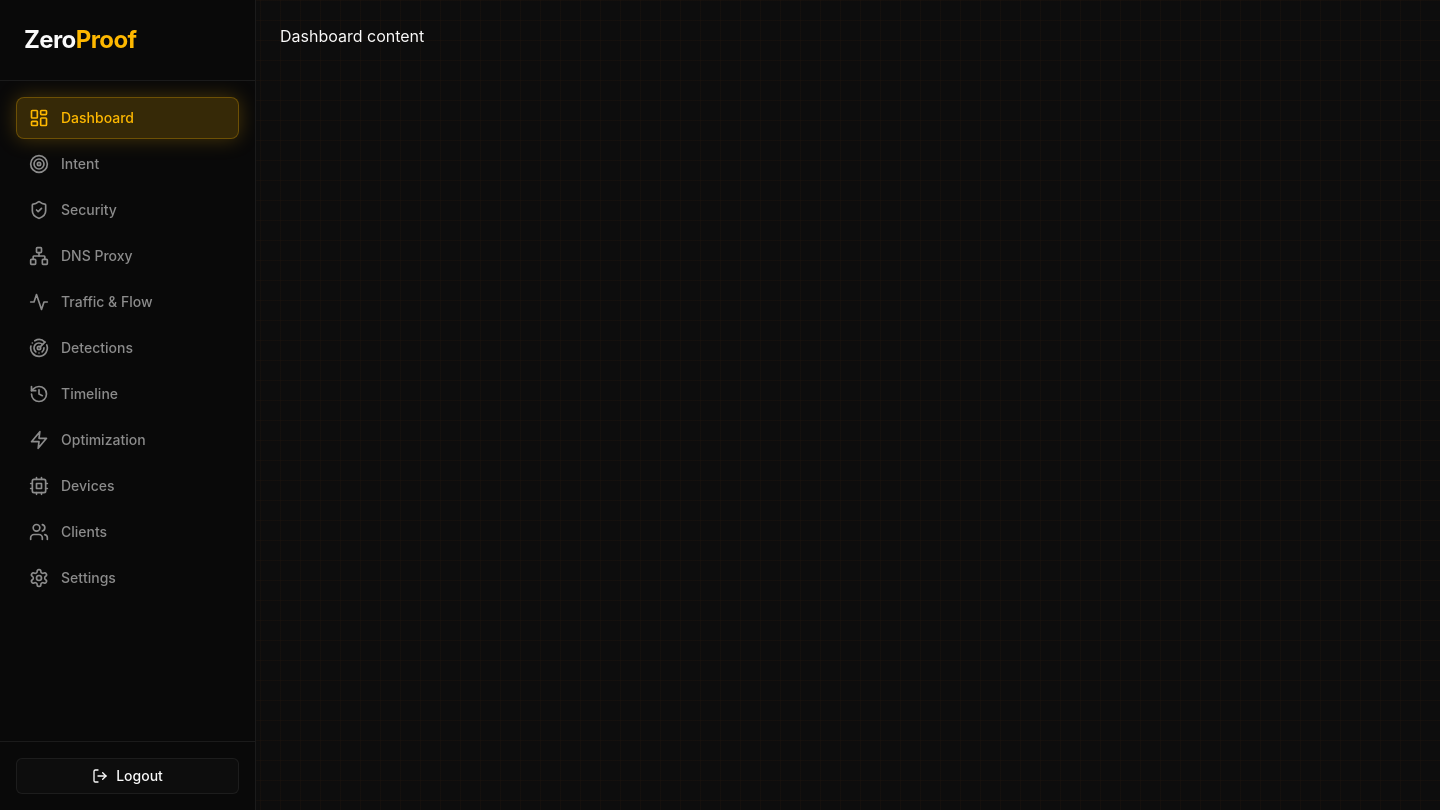
Test: Layout session lifecycle › does not submit logout when password rotation starts before the disabled button rerenders
Click the button "Logout". click: x=128, y=776
box: x1=16 y1=758 x2=239 y2=794
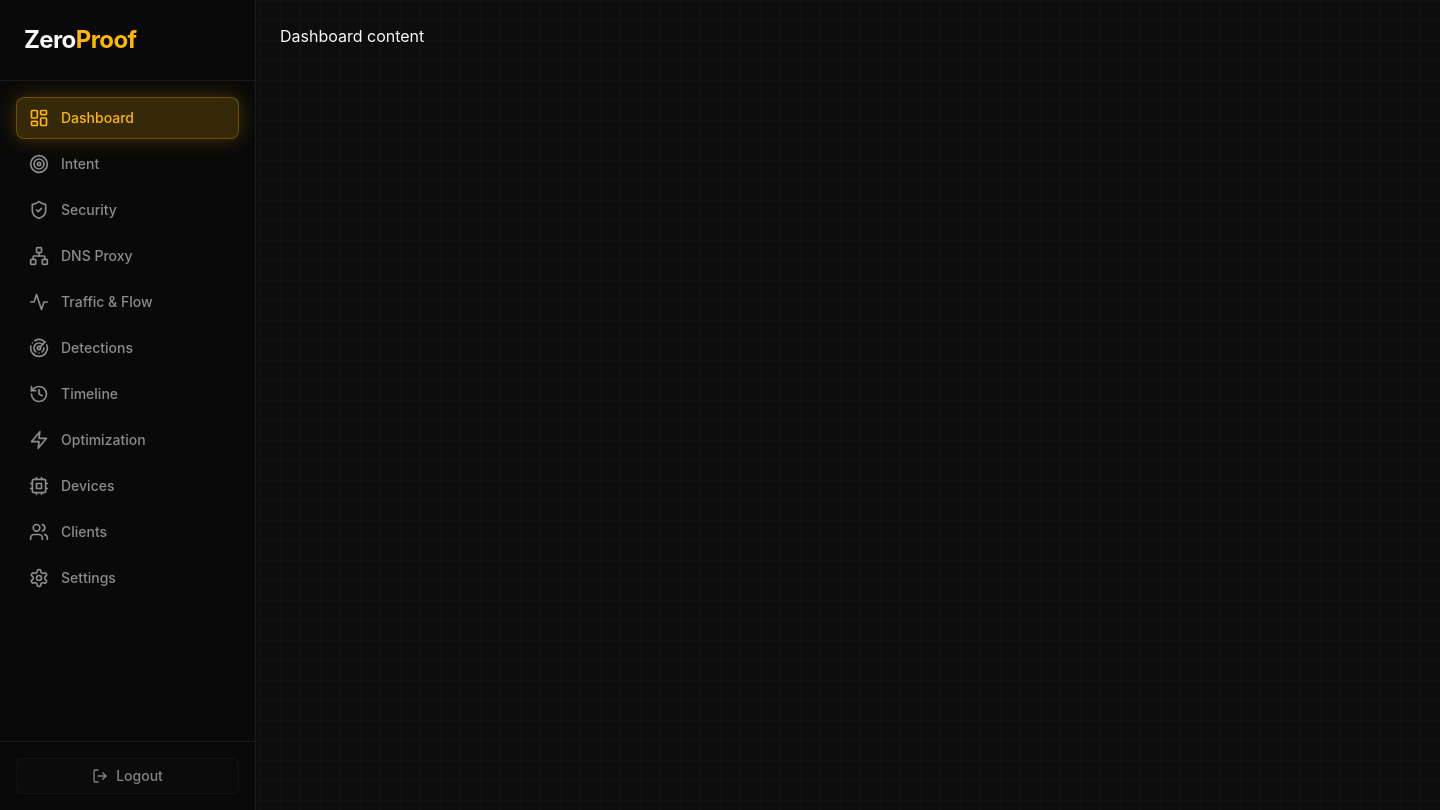
Result: the button "Logout" is disabled at x1=16 y1=758 x2=239 y2=794
